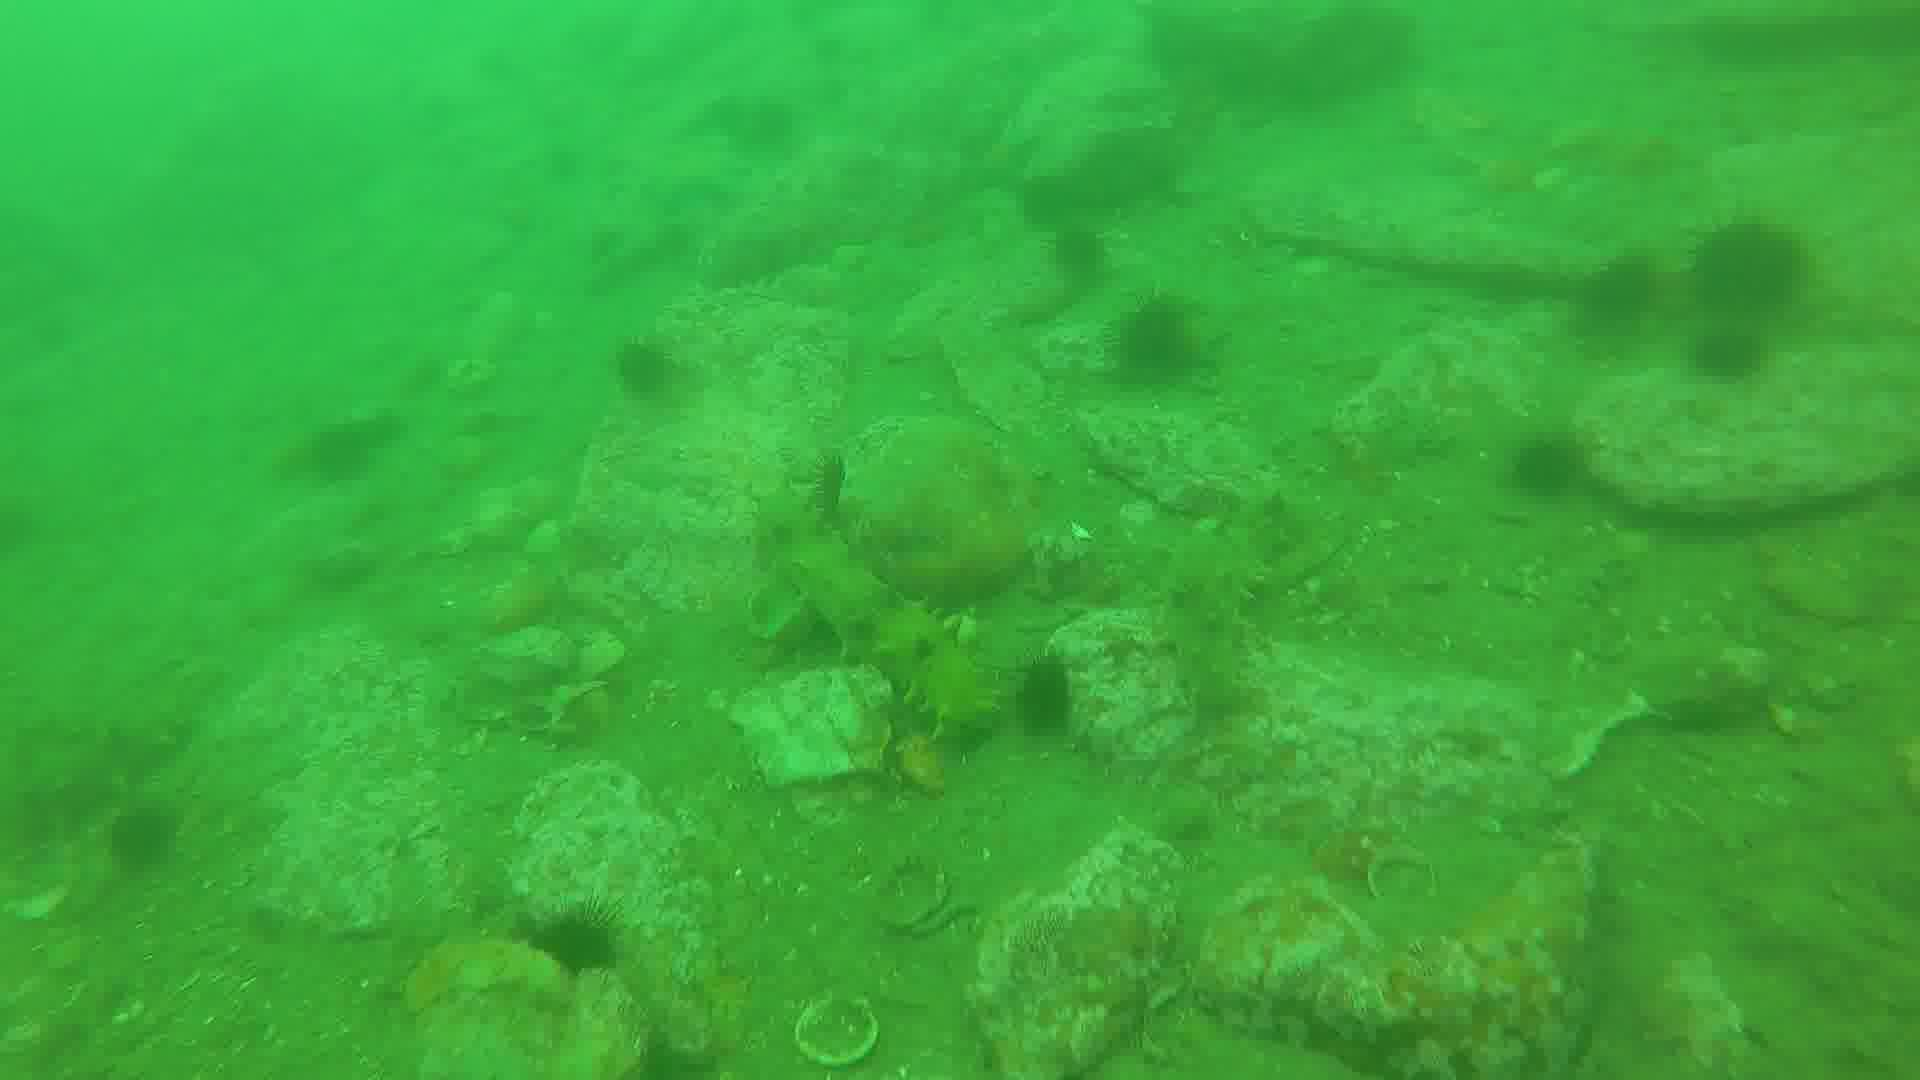echinus: (1691, 223, 1812, 328), (518, 906, 629, 998), (104, 800, 185, 884), (1127, 298, 1207, 375), (1011, 655, 1077, 742), (1582, 255, 1668, 320), (1513, 435, 1588, 502), (1691, 320, 1768, 384), (621, 336, 688, 396), (1048, 231, 1104, 285)
holothurian: (753, 484, 992, 735), (1154, 531, 1262, 717)
scallop: (742, 665, 903, 785), (793, 997, 887, 1071)
